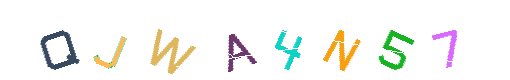4: (248, 0, 328, 80)
5: (348, 0, 428, 80)
7: (408, 0, 488, 80)
A: (216, 0, 296, 80)
J: (116, 0, 196, 80)
N: (301, 0, 381, 80)
Q: (90, 0, 170, 80)
W: (173, 0, 253, 80)
